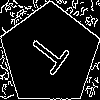T: (25, 30, 78, 82)
